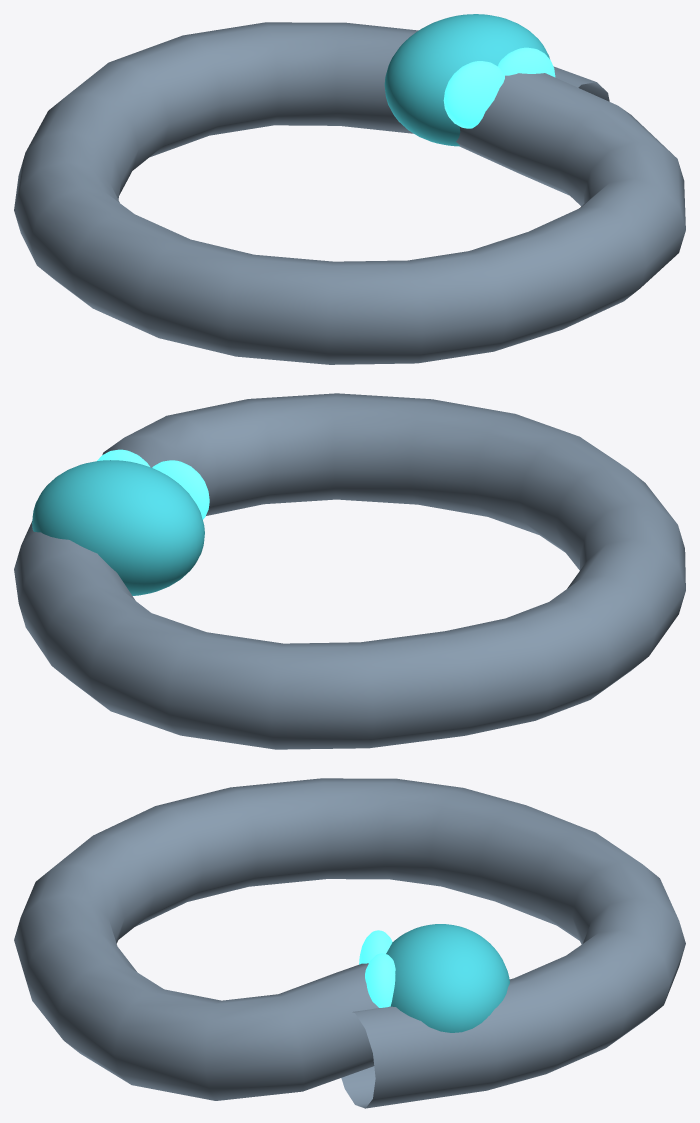
The model's file is ring_v4.glb.
3 renders of one model, top to bottom at view 1: azimuth 30°, elevation 25°; view 2: azimuth 150°, elevation 25°; view 3: azimuth 270°, elevation 25°, orthographic. The views are drawn at different scales.
Parts seen in each view (by area): view 1: SERPENT_RING_PRIMARY, SERPENT_HEAD_ACCENT, EYE_EMISSIVE, EYE_EMISSIVE.001; view 2: SERPENT_RING_PRIMARY, SERPENT_HEAD_ACCENT, EYE_EMISSIVE; view 3: SERPENT_RING_PRIMARY, SERPENT_HEAD_ACCENT, EYE_EMISSIVE.001, EYE_EMISSIVE.
Part boxes in pixels (x1,y1,x2,y2): SERPENT_RING_PRIMARY: (14, 22, 685, 364); SERPENT_HEAD_ACCENT: (384, 14, 549, 146); EYE_EMISSIVE: (443, 61, 504, 128); EYE_EMISSIVE.001: (498, 47, 555, 77); SERPENT_RING_PRIMARY: (14, 393, 685, 749); SERPENT_HEAD_ACCENT: (32, 460, 204, 595); EYE_EMISSIVE: (152, 460, 209, 519); SERPENT_RING_PRIMARY: (14, 778, 685, 1108); SERPENT_HEAD_ACCENT: (386, 924, 509, 1032); EYE_EMISSIVE.001: (365, 953, 395, 1007); EYE_EMISSIVE: (359, 930, 392, 964).
Bounding box in the file's own units: 1.65 × 0.399 × 1.73.
